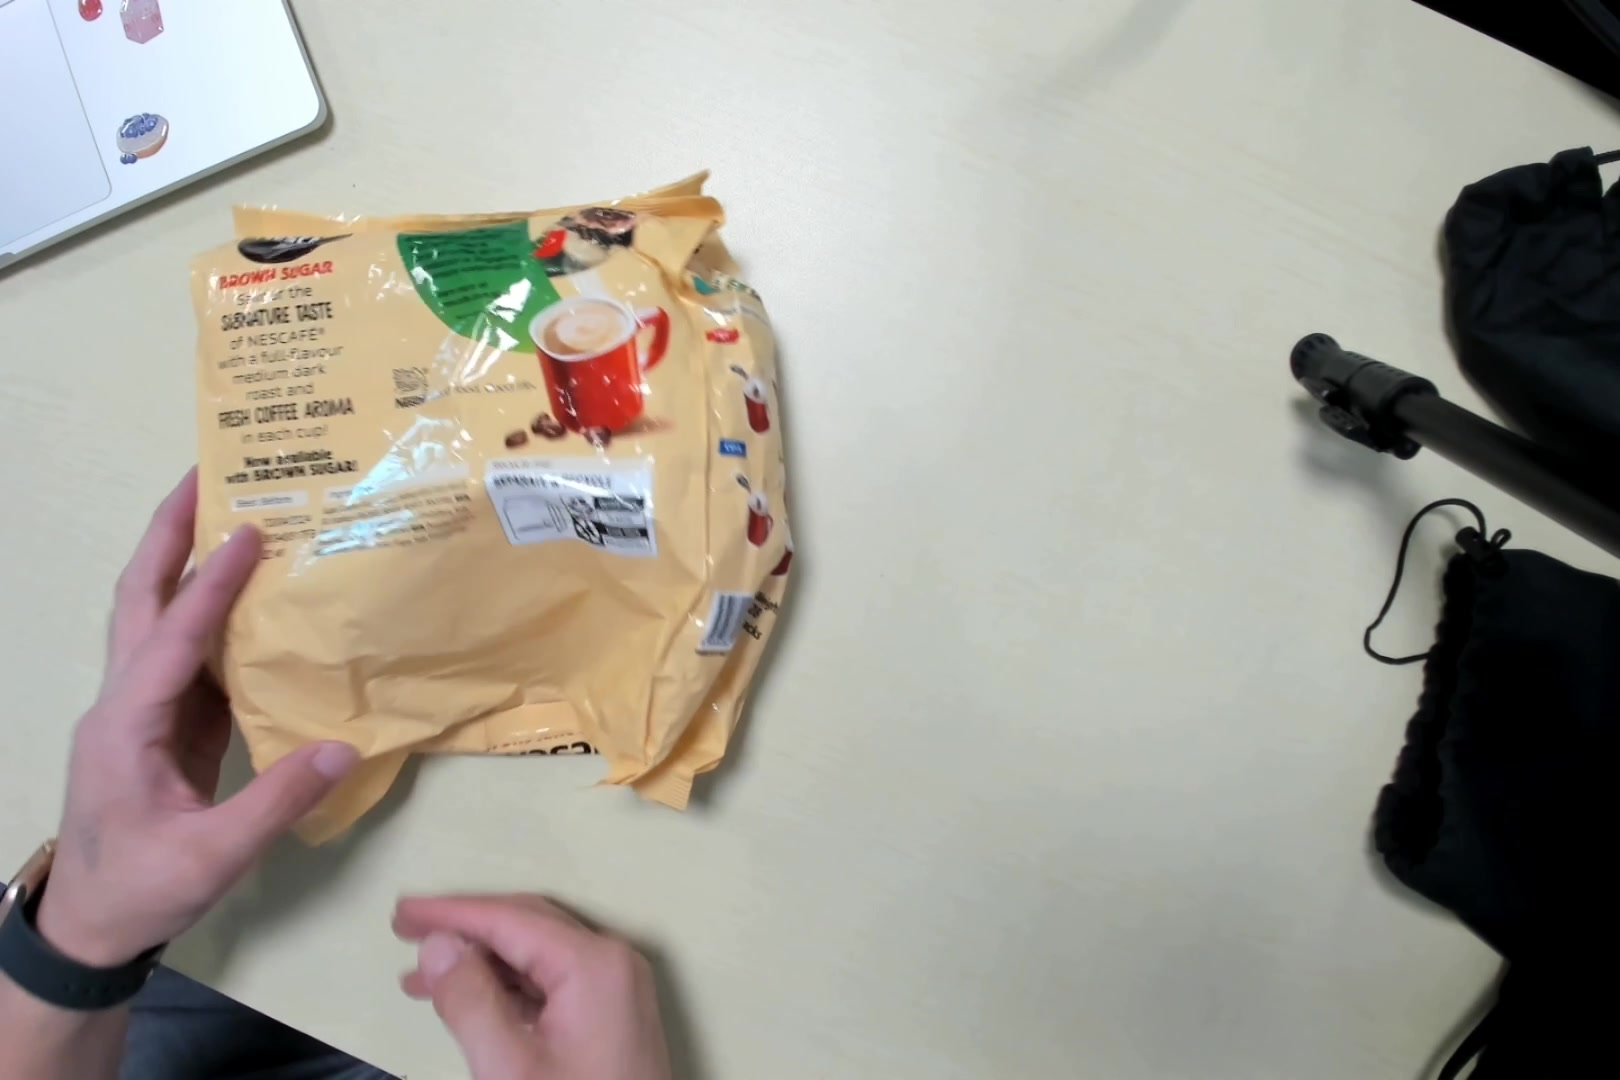Coffee(Powder)_500-599g_Halal_Healthy: (186, 198, 799, 850)
